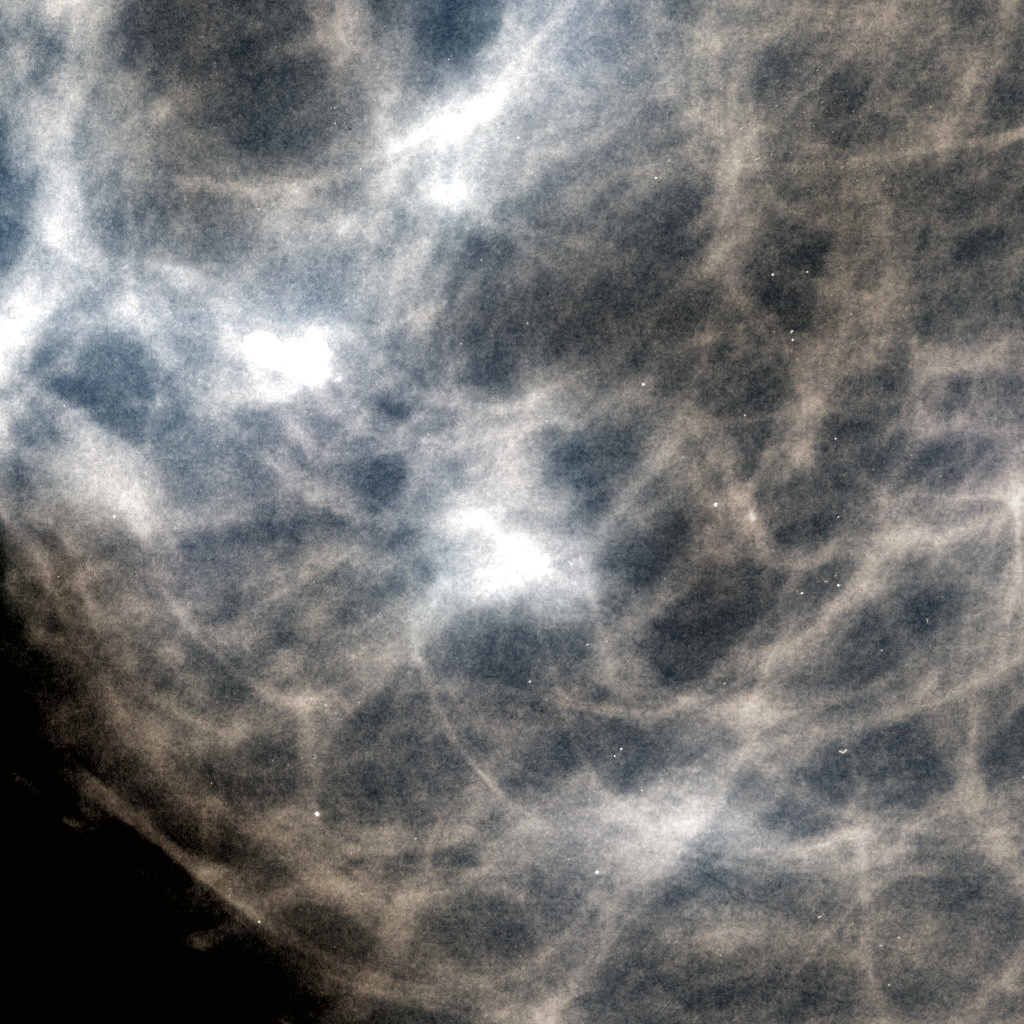tumor: (408, 390, 616, 634)
